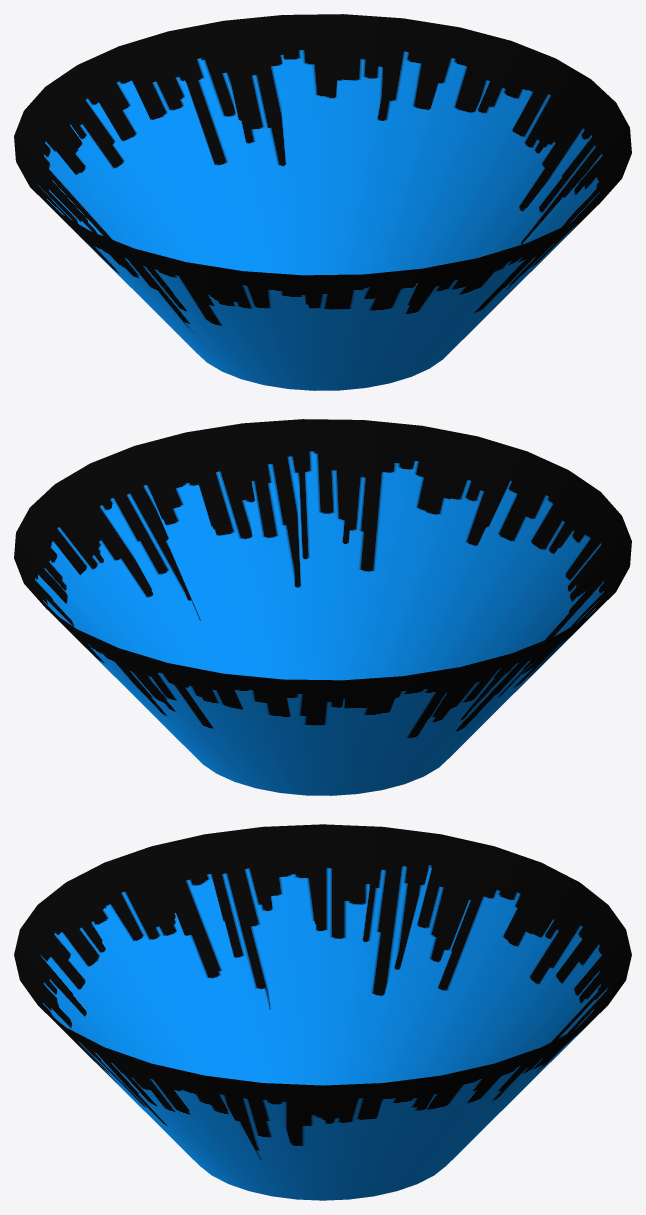
File: pickupglow2.fbx
3 views of the same model, one above another, from view 1: azimuth 30°, elevation 25°; view 2: azimuth 150°, elevation 25°; view 3: azimuth 270°, elevation 25° (orthographic).
Visible parts, largest first — view 1: Cylinder; view 2: Cylinder; view 3: Cylinder.
Boxes of the visible parts, x1=… form: Cylinder: x1=14, y1=14, x2=631, y2=390; Cylinder: x1=14, y1=419, x2=631, y2=795; Cylinder: x1=14, y1=824, x2=631, y2=1200.
Size of the model in its own units: 462 by 156 by 462.
